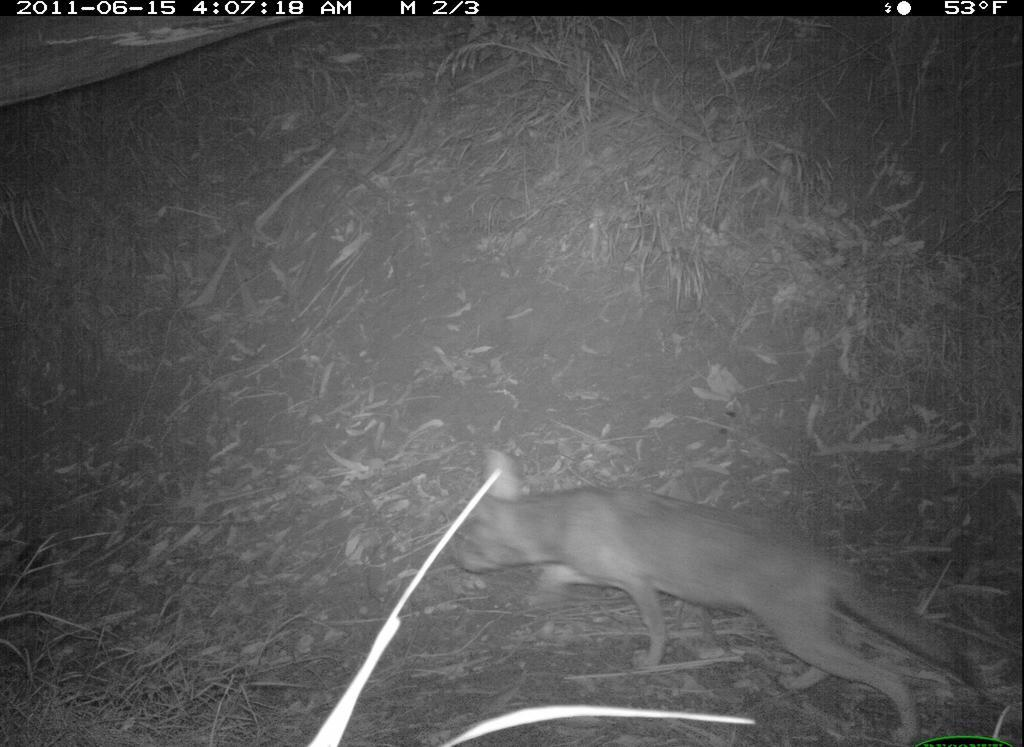coyote: (424, 432, 996, 747)
